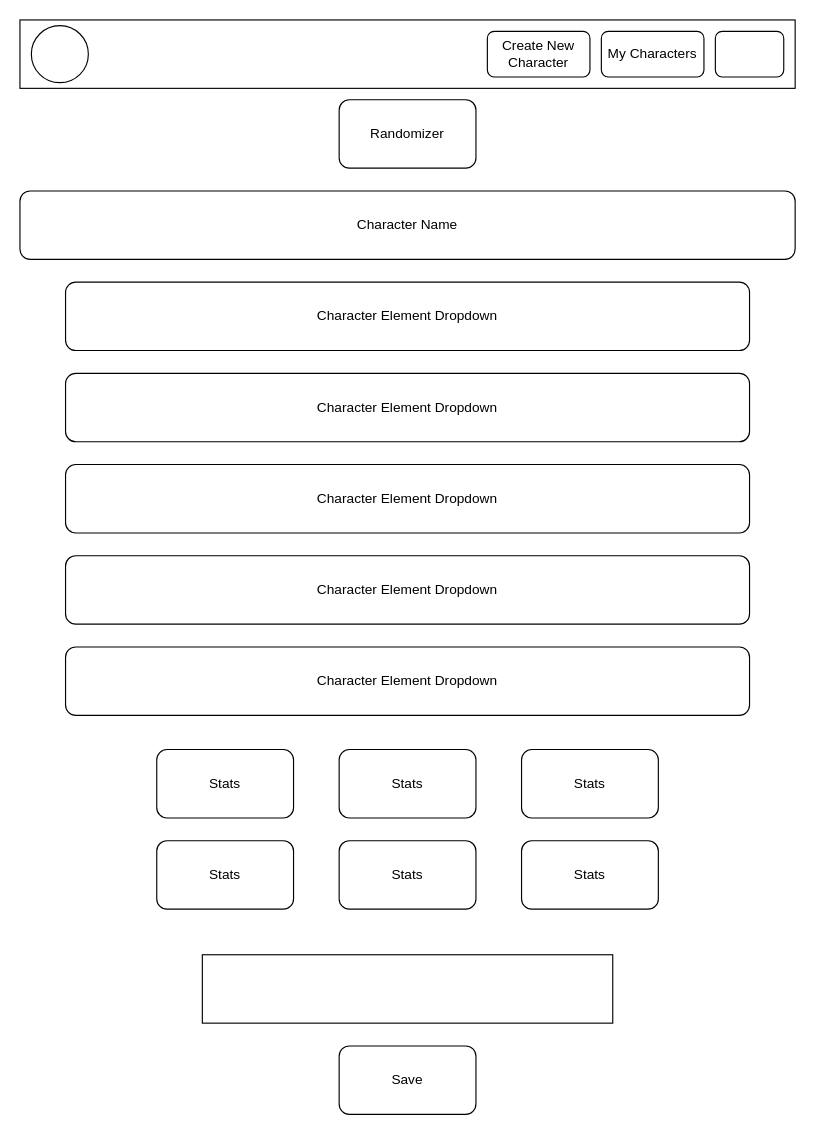
This 815x1134 diagram has some shape labels left out. The shapes that lost their labels are listed below. From the top down, each one's centre as x and y in pixels, then its label:
pixel 59 54: user icon
pixel 749 53: Logout
pixel 407 988: image input
